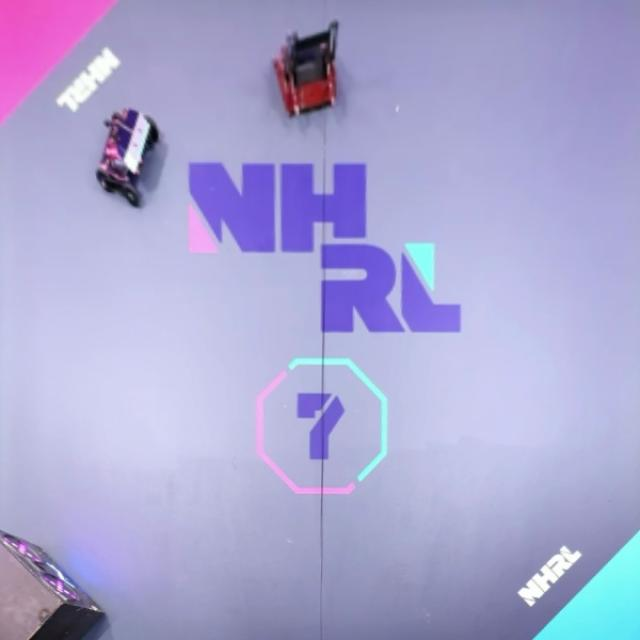housebot: (0, 529, 105, 640)
robot: (273, 20, 343, 116), (95, 109, 161, 208)
